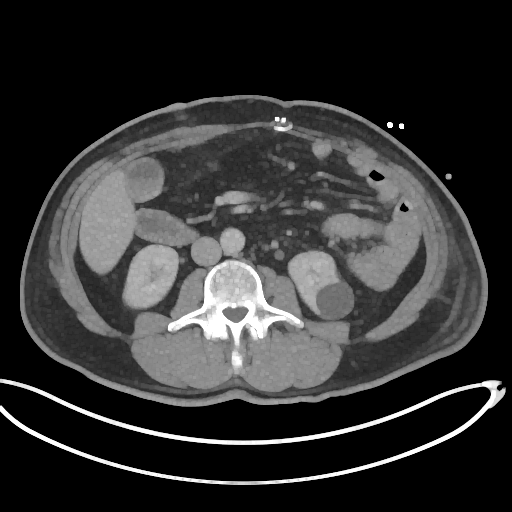Lesion: (312, 279, 358, 321)
